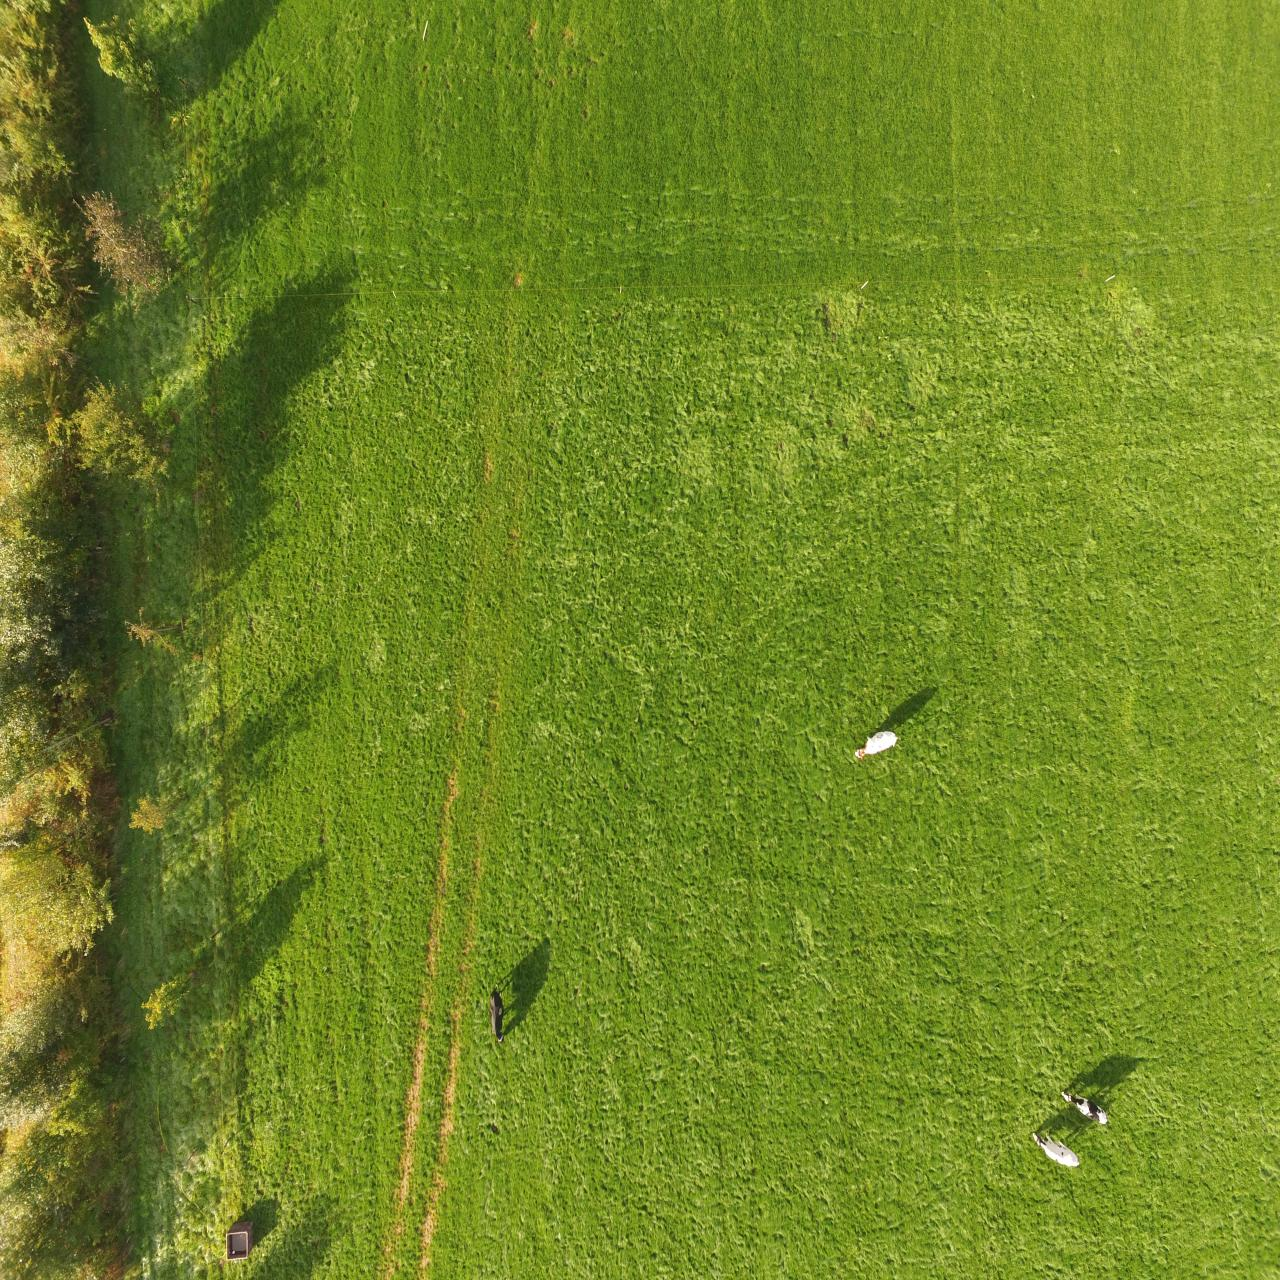cow: (1060, 1088, 1111, 1131), (1029, 1128, 1082, 1169), (853, 727, 899, 763), (488, 980, 506, 1046)
